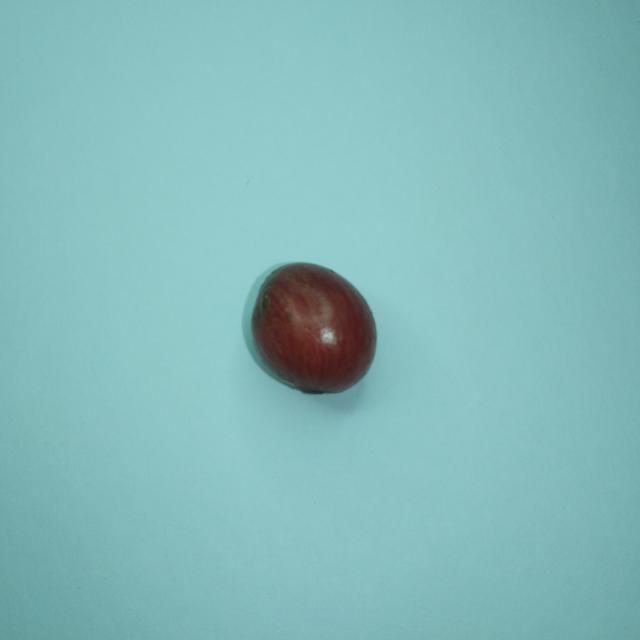Sano: (243, 263, 376, 393)
